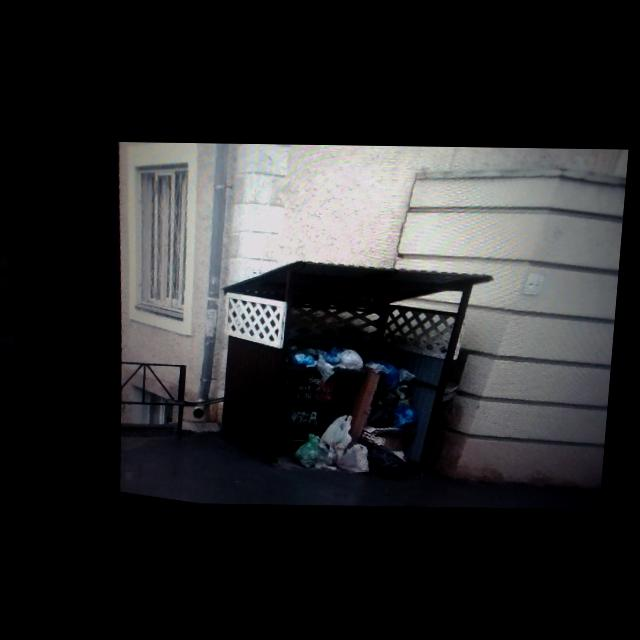Trash_Can_Full: (286, 342, 373, 443)
